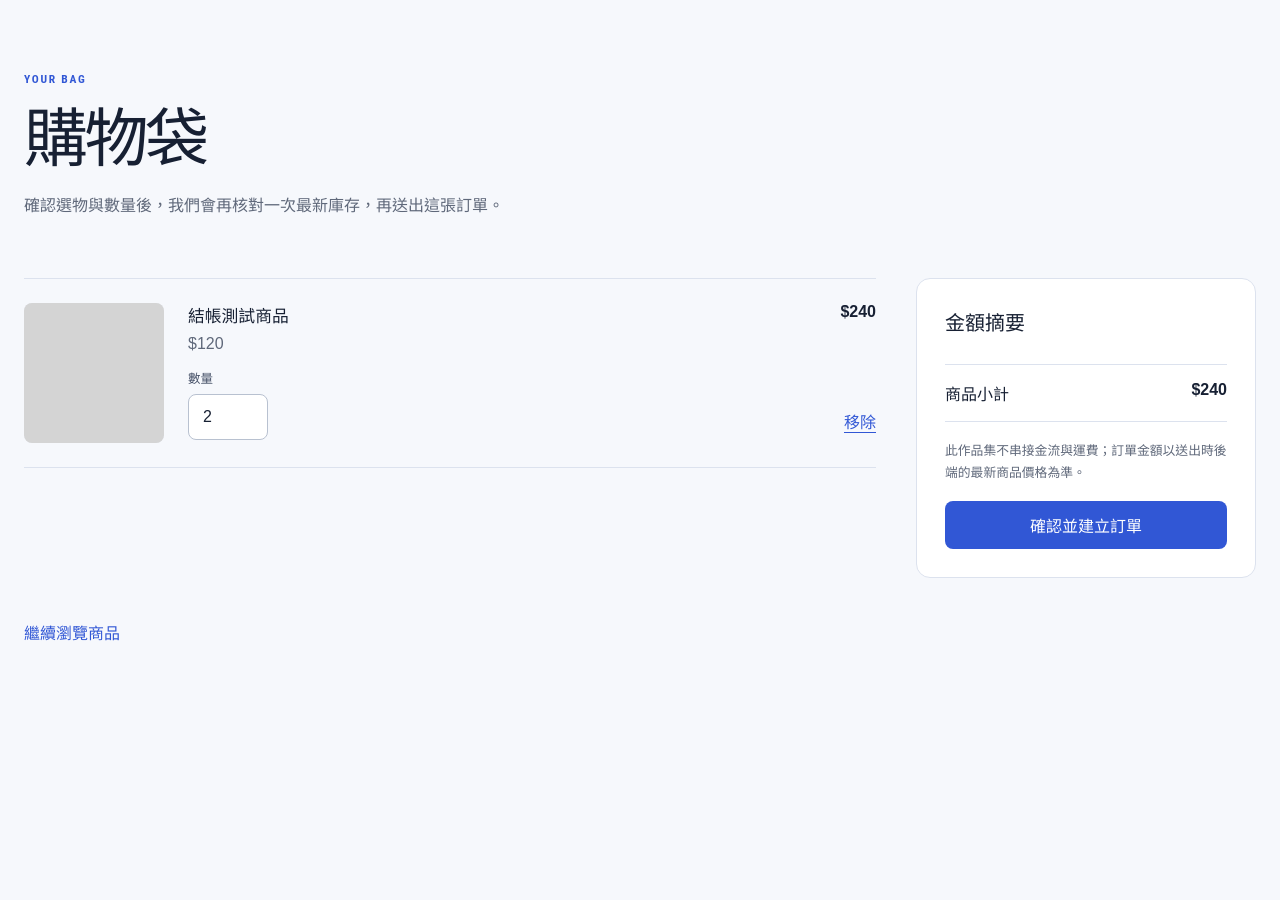
Scenario: CartPage › 商品已下架時顯示調整提示
Click the button "確認並建立訂單". click: [1086, 525]
box: [945,501,1227,549]
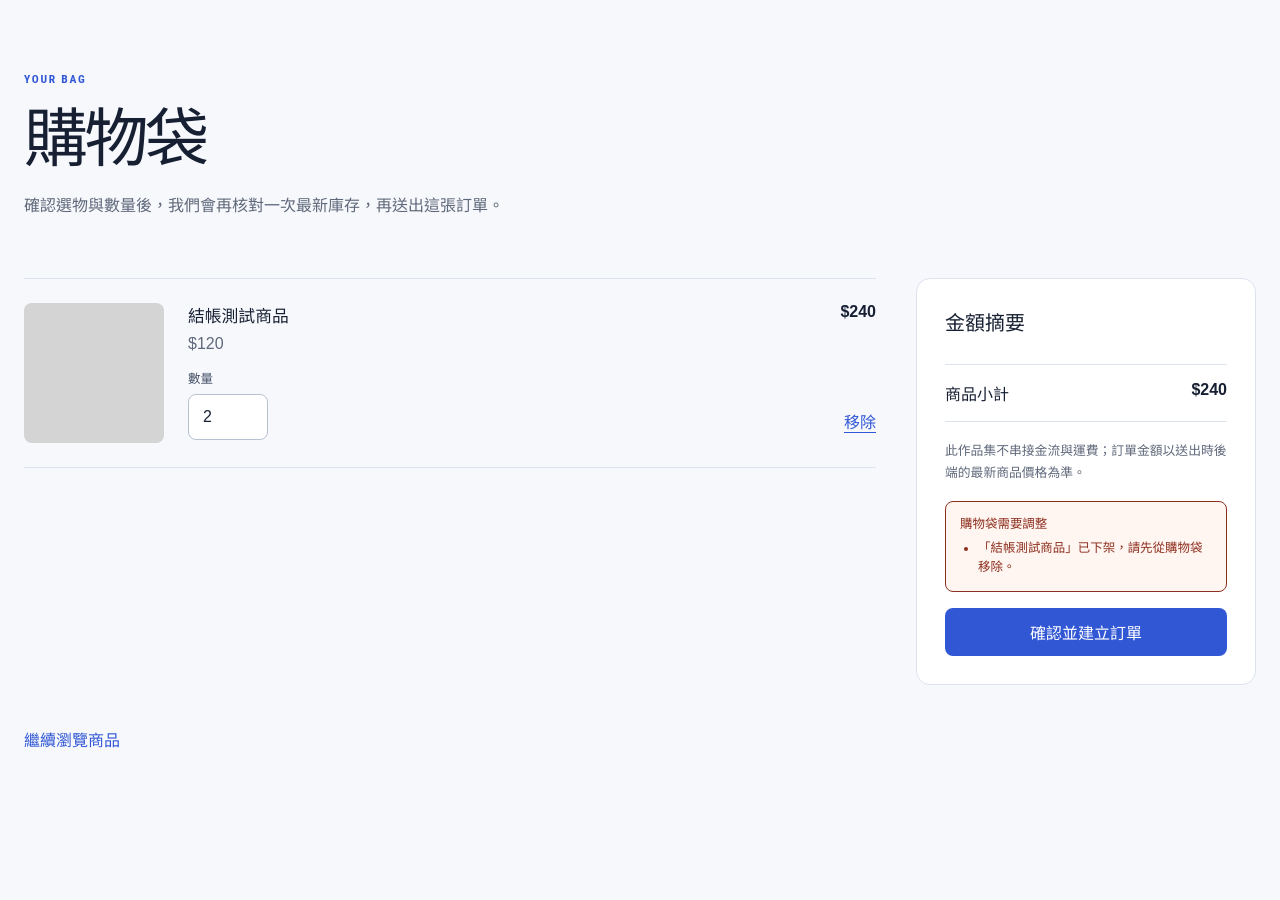
Expected: the message shows "「結帳測試商品」已下架，請先從購物袋移除。", [978,541,1202,574]
